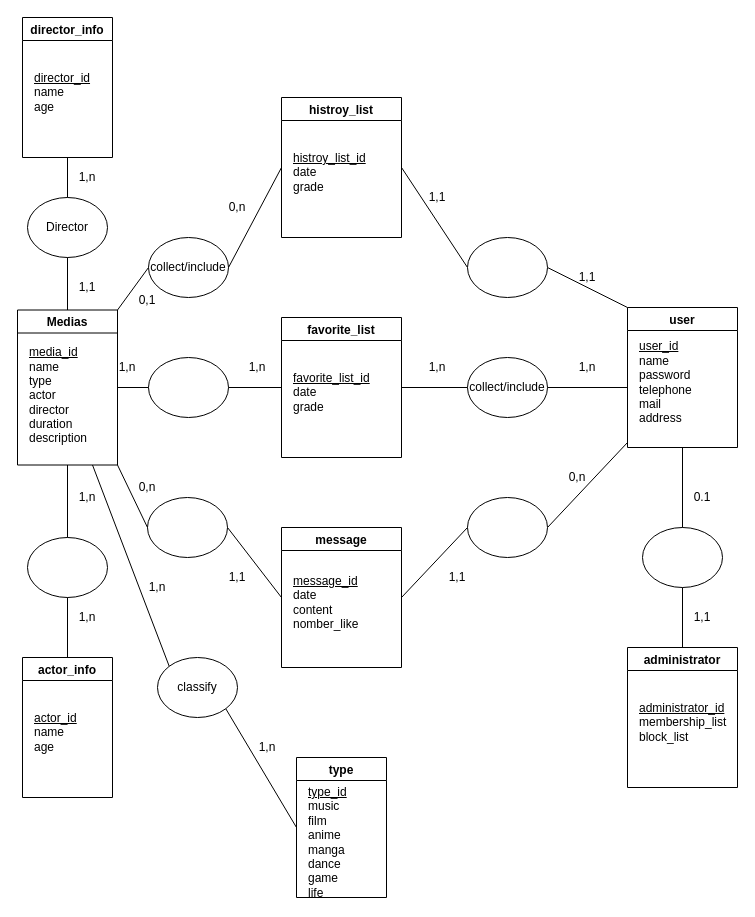
Image size: 755x917. Some labels were removed from this diagram. The centre of each missing label's shape, as x and y in pixels:
add/include: [188,387]
authority: [682,557]
include: [187,527]
Participate: [67,567]
send: [507,527]
viewed: [507,267]
